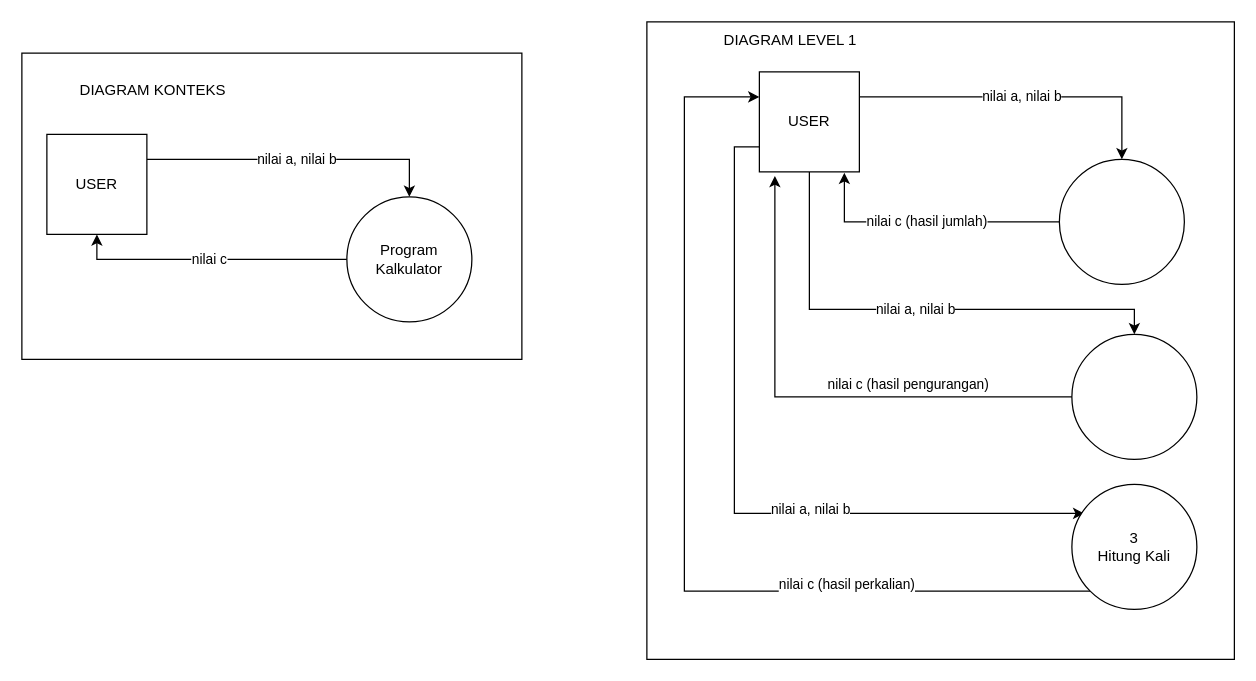
Some shapes in this 1256 by 681 pixel diagram are drawn without their labels. The centre of each missing label's shape, as x and y in pixels:
1 Hitung Jumlah: (x=1121, y=221)
2 Hitung Kurang: (x=1134, y=396)
